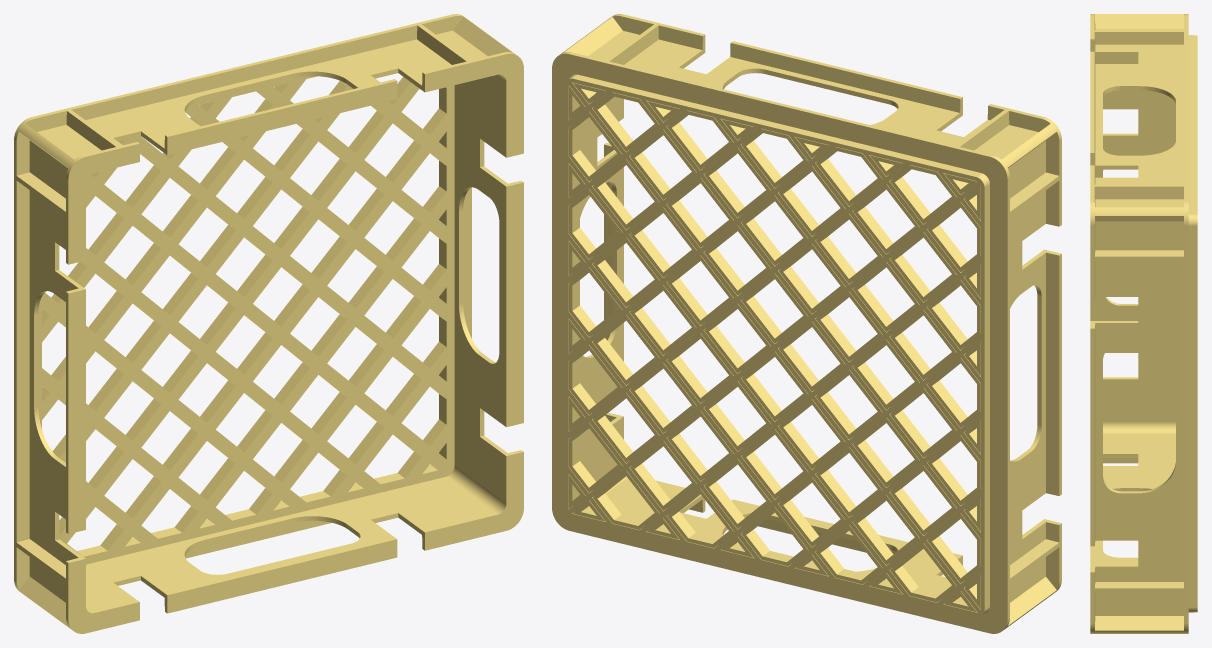
Rendered from Crate.glb.
The picture shows the model from 3 angles, left to right: view 1: azimuth 30°, elevation 25°; view 2: azimuth 150°, elevation 25°; view 3: azimuth 270°, elevation 25°; orthographic projection. The views are drawn at different scales.
Parts seen in each view (by area): view 1: CAD_0; view 2: CAD_0; view 3: CAD_0.
Part boxes in pixels (left/top/right/bottom): CAD_0: left=14, top=14, right=523, bottom=633; CAD_0: left=552, top=14, right=1061, bottom=633; CAD_0: left=1090, top=14, right=1197, bottom=633.
Bounding box in the file's own units: 0.2476 × 0.2476 × 0.056.
